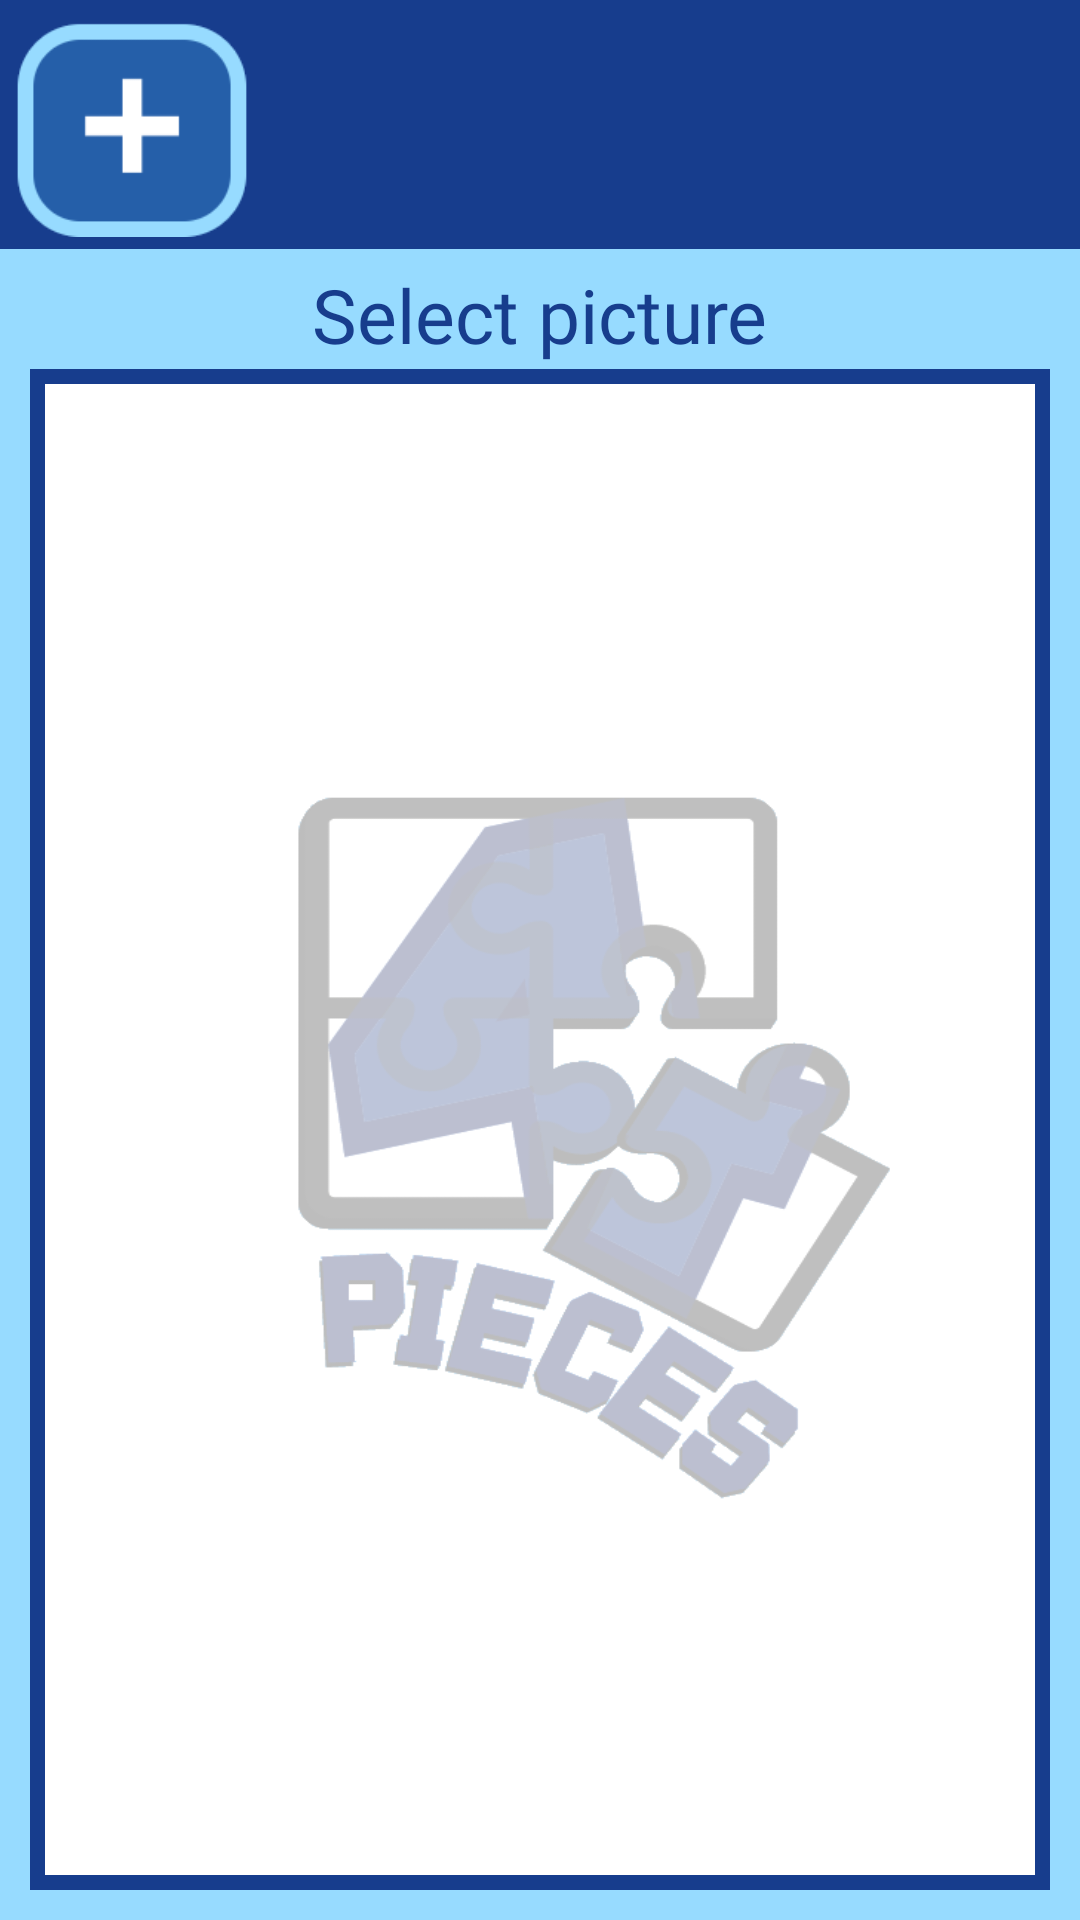

Where icons sit on this 1080 x 1920 app screen, as BBox(x1, y1, x2, y2):
plusbtn: BBox(17, 24, 247, 237)
